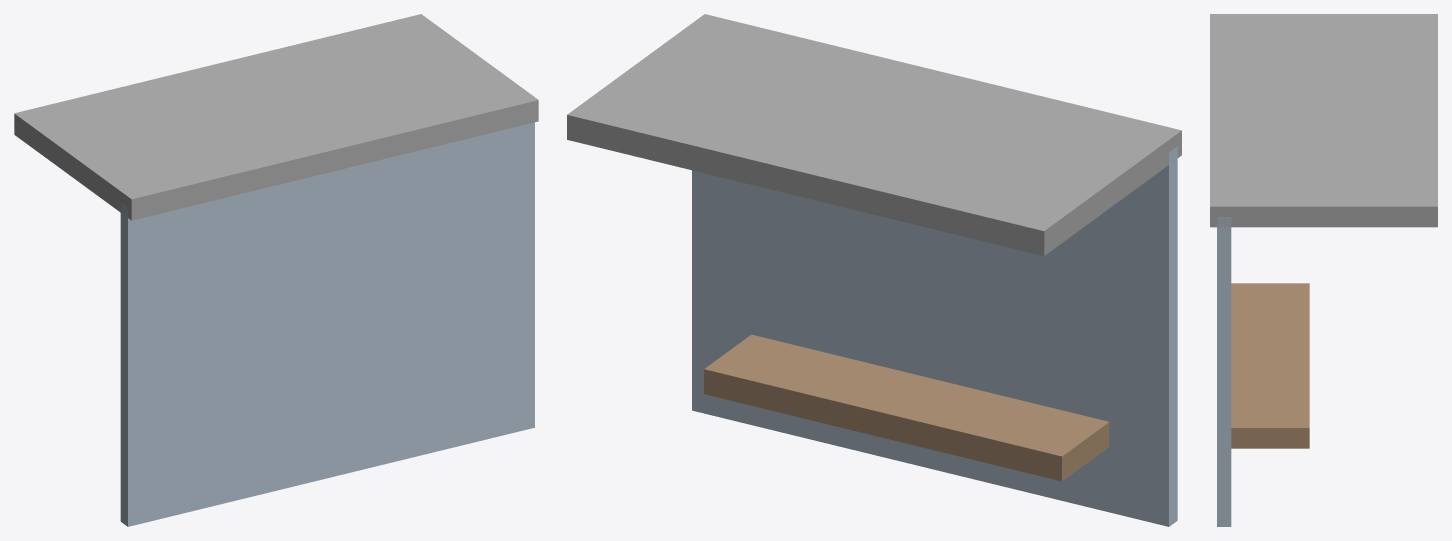
File: bus_shelter.glb
The picture shows the model from 3 angles, left to right: view 1: azimuth 30°, elevation 25°; view 2: azimuth 150°, elevation 25°; view 3: azimuth 270°, elevation 25°; orthographic projection. The views are drawn at different scales.
Visible parts, largest first — view 1: back, roof; view 2: back, roof, bench; view 3: roof, bench, back.
Part boxes in pixels (box(x1,y1,x2,y2)): back: box(120, 122, 534, 526); roof: box(14, 14, 538, 220); back: box(692, 146, 1177, 526); roof: box(567, 14, 1181, 255); bench: box(704, 334, 1109, 481); roof: box(1210, 14, 1437, 227); bench: box(1231, 283, 1309, 448); back: box(1217, 217, 1231, 526).
Bounding box in the file's own units: 3.2 × 2.48 × 1.6.
